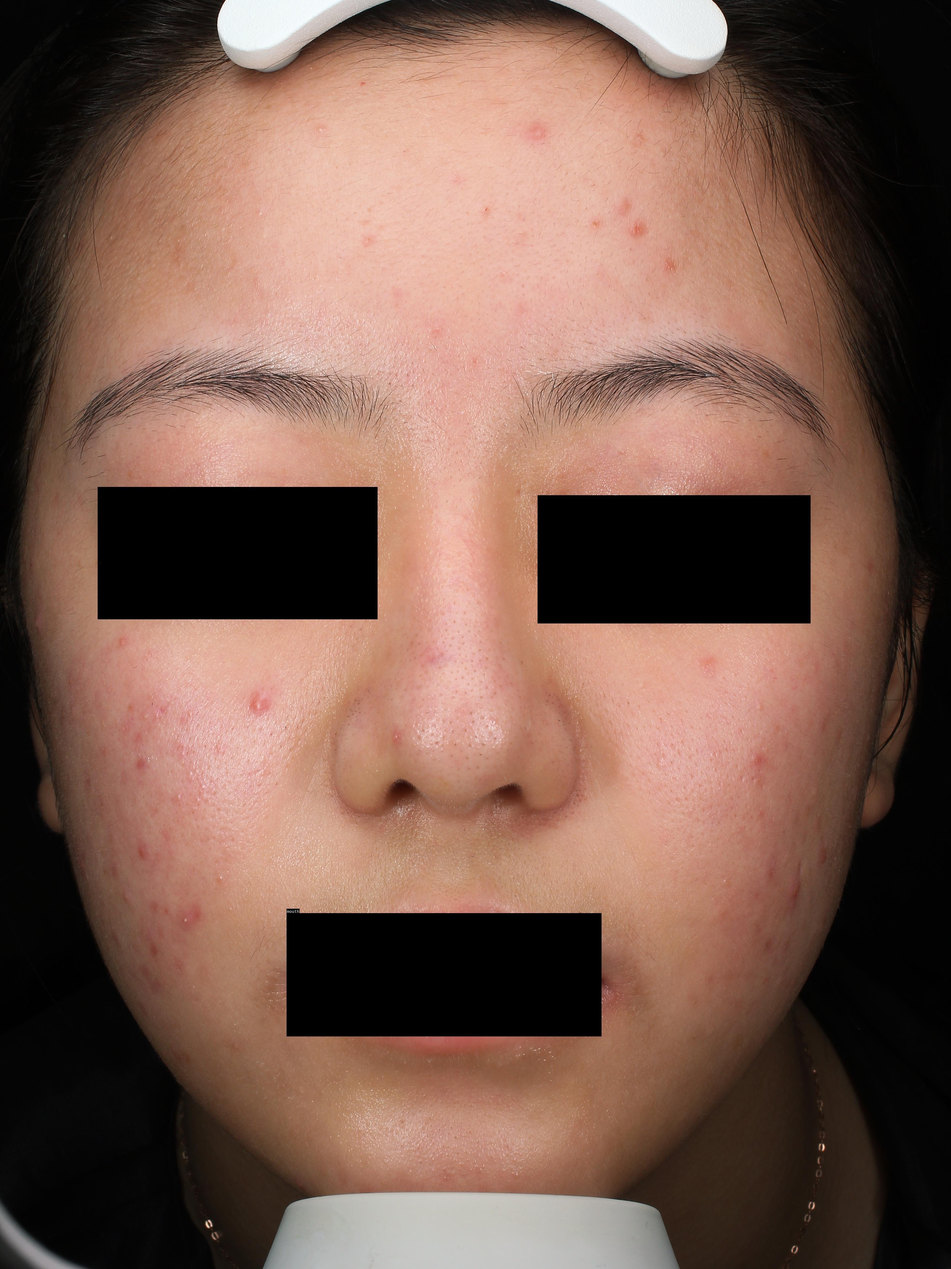atrophic_scar: (653, 750, 667, 772), (157, 703, 169, 720), (358, 218, 373, 226), (796, 860, 803, 874), (739, 775, 745, 784), (760, 782, 765, 790)
closed_comedo: (216, 873, 225, 884), (811, 786, 819, 796), (721, 878, 729, 886), (256, 210, 264, 217), (187, 710, 193, 717), (188, 770, 193, 776), (201, 784, 206, 789), (177, 794, 181, 800)
open_comedo: (512, 893, 519, 899), (402, 149, 406, 153)
papule: (250, 694, 272, 715), (786, 878, 803, 905), (628, 221, 647, 237), (616, 198, 630, 215), (137, 844, 149, 861), (148, 941, 160, 958), (532, 126, 546, 140), (33, 612, 43, 631), (750, 753, 764, 766), (818, 847, 828, 863), (135, 757, 147, 770), (589, 218, 601, 230), (111, 931, 121, 943), (665, 260, 675, 270), (124, 891, 131, 903), (364, 236, 372, 246), (296, 1180, 303, 1189), (482, 206, 490, 213), (119, 638, 125, 647), (233, 1043, 240, 1050), (757, 703, 763, 710), (142, 713, 148, 719), (180, 751, 186, 757), (435, 326, 441, 332)
pustule: (390, 730, 404, 745), (181, 914, 194, 927), (317, 126, 326, 133), (501, 270, 506, 277)
